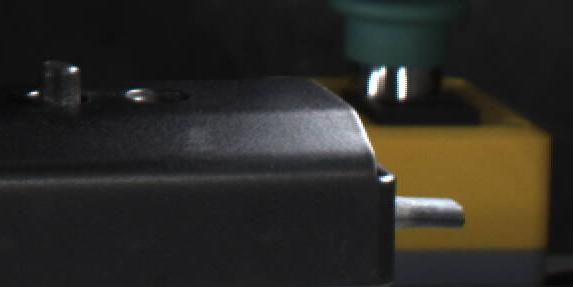rubber: (389, 188, 466, 235)
screw: (35, 60, 87, 114)
